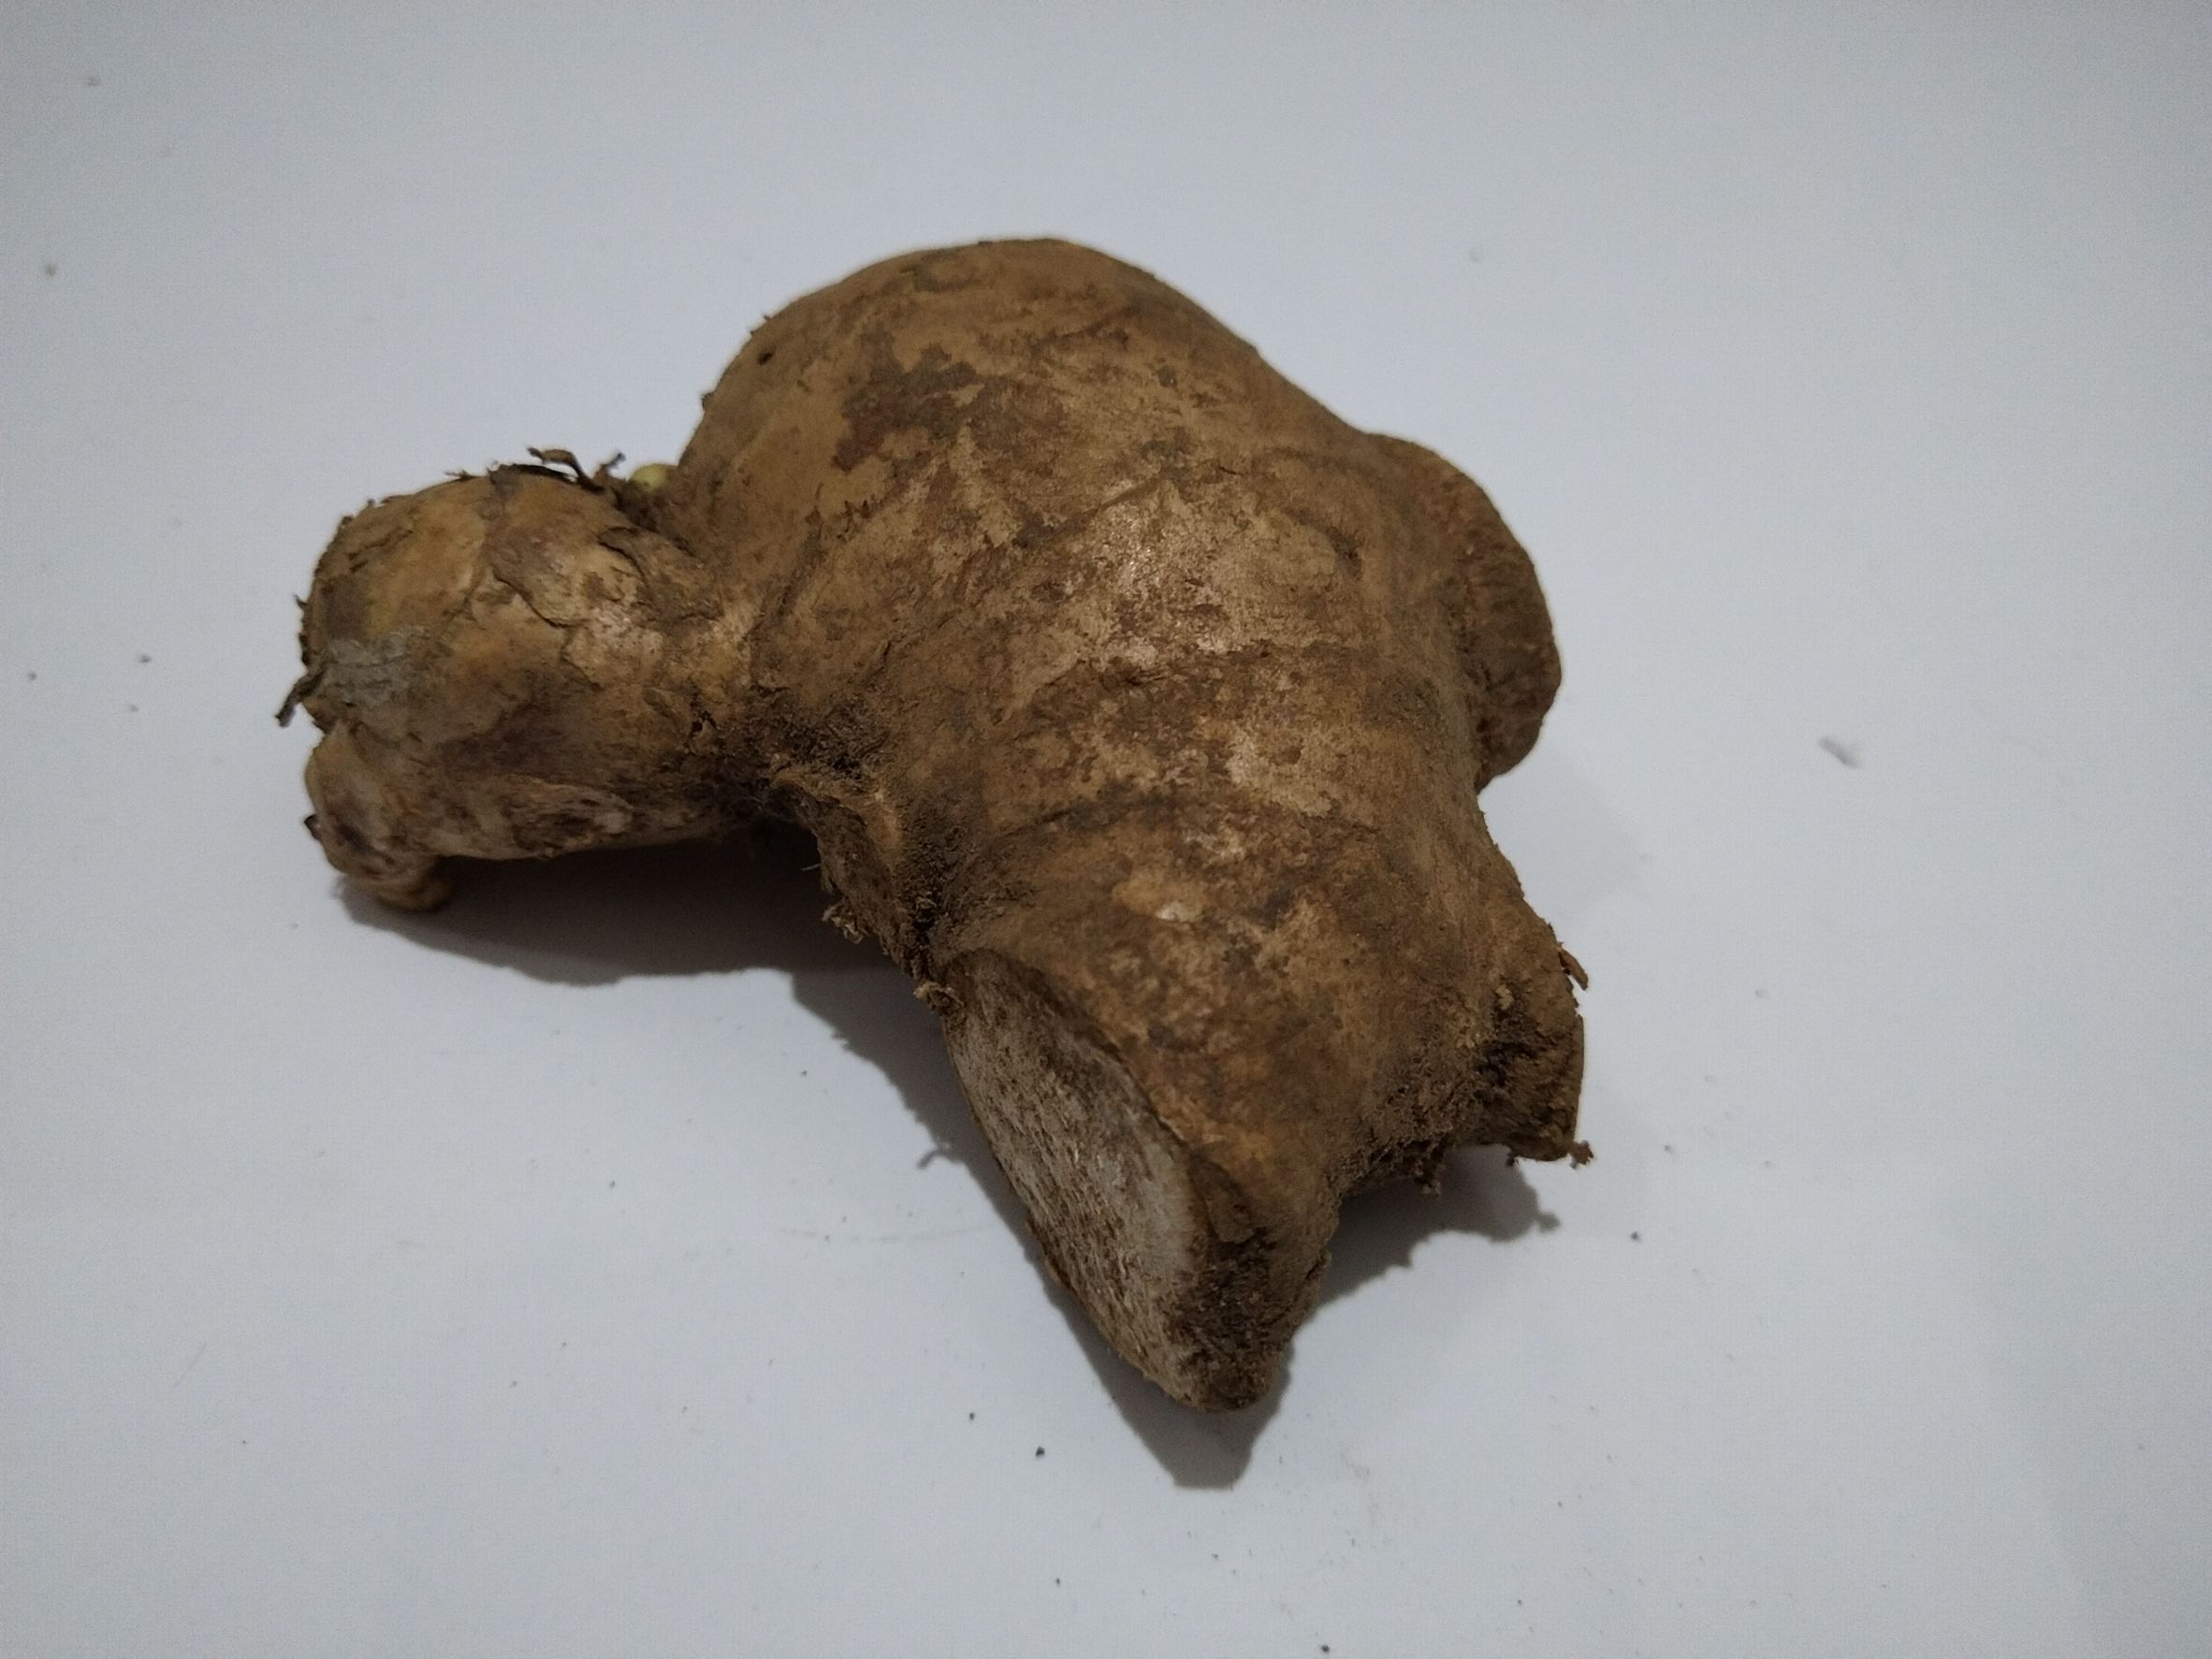Jahe: (326, 239, 1581, 1471)
